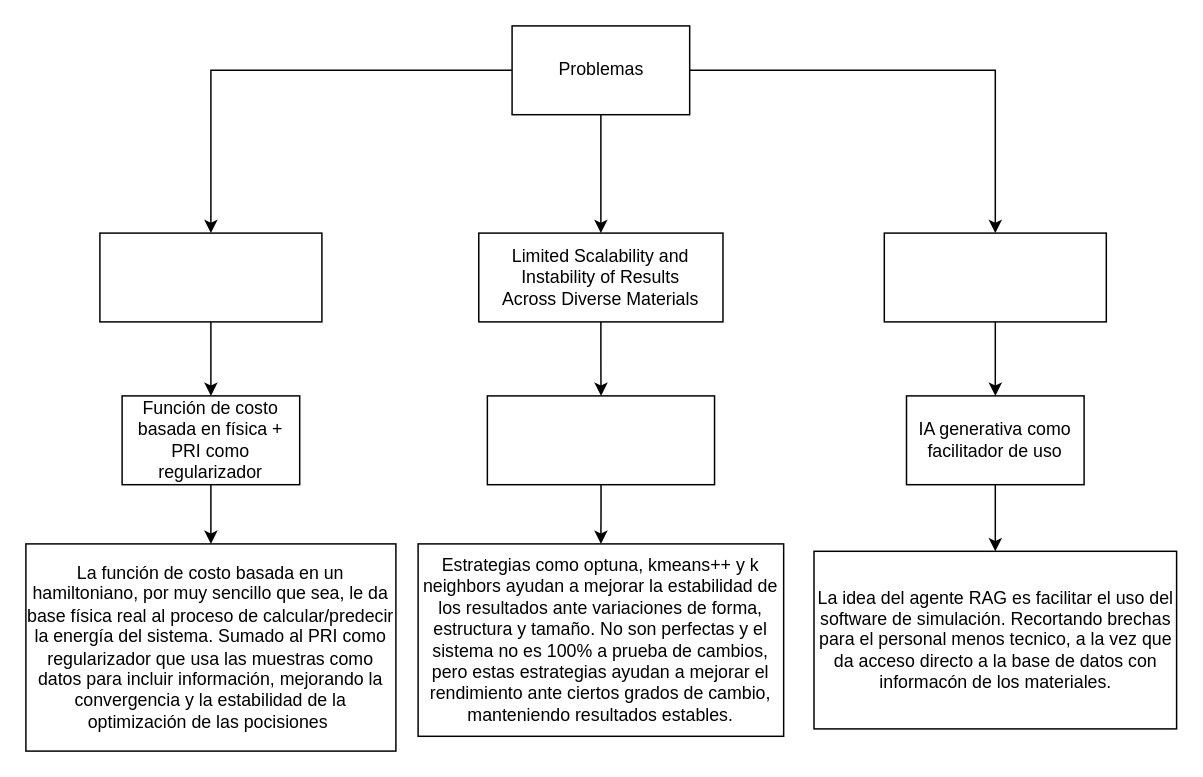
The diagram is 1203 pixels wide and 777 high, and some of its shapes have lost their labels. Here are the shapes that lost their labels. From the top down, the centre of each, then its label:
At point (210, 277): "Inflexibility and High Cost of High-Fidelity Simulations".
At point (994, 277): "The Knowledge Barrier and Lack of Integrated Tools".
At point (600, 439): "Estrategias de exploración y estabilización de resultados".
